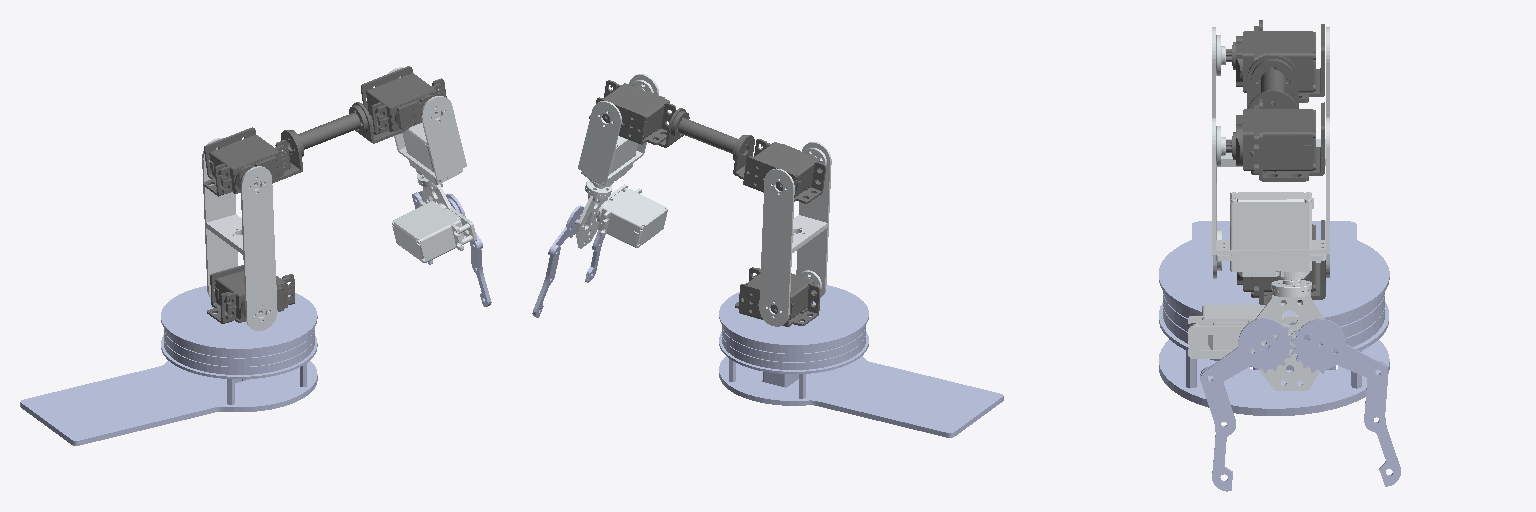
The robot description file, URDF, robot "six_servo":
<?xml version="1.0" encoding="utf-8" ?>
<!-- This URDF was automatically created by SolidWorks to URDF Exporter! Originally created by [author] ([email redacted]) 
     Commit Version: 1.6.0-1-g15f4949  Build Version: 1.6.7594.29634
     For more information, please see http://wiki.ros.org/sw_urdf_exporter -->
<robot name="six_servo">
    <link name="base_link">
        <inertial>
            <origin xyz="-0.018875 0.0012578 0.021854" rpy="0 0 0" />
            <mass value="0.19205" />
            <inertia ixx="0.00016092" ixy="2.2769E-06" ixz="-1.8938E-05" iyy="0.00040613" iyz="2.3218E-07" izz="0.0005467" />
        </inertial>
        <visual>
            <origin xyz="0 0 0" rpy="-1.5708 0 0" />
            <geometry>
                <mesh filename="package://six_servo/meshes/base_link.STL" scale="10 10 10"/>
            </geometry>
            <material name="">
                <color rgba="0.79216 0.81961 0.93333 1" />
            </material>
        </visual>
        <collision>
            <origin xyz="0 0 0" rpy="0 0 0" />
            <geometry>
                <mesh filename="package://six_servo/meshes/base_link.STL" scale="10 10 10"/>
            </geometry>
        </collision>
    </link>
    <link name="link1">
        <inertial>
            <origin xyz="0.019845 -0.018933 -0.01119" rpy="0 0 0" />
            <mass value="0.045014" />
            <inertia ixx="4.7182E-06" ixy="3.953E-08" ixz="1.6436E-09" iyy="9.8584E-06" iyz="-4.236E-07" izz="1.0906E-05" />
        </inertial>
        <visual>
            <origin xyz="0 0 0" rpy="0 0 0" />
            <geometry>
                <mesh filename="package://six_servo/meshes/link1.STL" scale="10 10 10"/>
            </geometry>
            <material name="">
                <color rgba="0.50196 0.50196 0.50196 1" />
            </material>
        </visual>
        <collision>
            <origin xyz="0 0 0" rpy="0 0 0" />
            <geometry>
                <mesh filename="package://six_servo/meshes/link1.STL" scale="10 10 10"/>
            </geometry>
        </collision>
    </link>
    <joint name="joint1" type="revolute">
        <!--0.0076655 -0.05 -0.014602-->
        <origin xyz="-0.076655 -0.14602 0.5" rpy="-3.14 -0.040154 0" />
        <parent link="base_link" />
        <child link="link1" />
        <axis xyz="0 0 1" />
        <limit lower="-1.5708" upper="1.5708" effort="100" velocity="1" />
    </joint>
    <link name="link2">
        <inertial>
            <origin xyz="-9.6446E-05 -0.051 0.011223" rpy="0 0 0" />
            <mass value="0.049995" />
            <inertia ixx="4.6603E-05" ixy="-3.0854E-08" ixz="-1.1117E-20" iyy="3.0288E-05" iyz="-5.5477E-21" izz="2.134E-05" />
        </inertial>
        <visual>
            <origin xyz="0 0 0" rpy="0 0 0" />
            <geometry>
                <mesh filename="package://six_servo/meshes/link2.STL" scale="10 10 10"/>
            </geometry>
            <material name="">
                <color rgba="0.89412 0.91373 0.92941 1" />
            </material>
        </visual>
        <collision>
            <origin xyz="0 0 0" rpy="0 0 0" />
            <geometry>
                <mesh filename="package://six_servo/meshes/link2.STL" scale="10 10 10"/>
            </geometry>
        </collision>
    </link>
    <joint name="joint2" type="revolute">
        <origin xyz="0.1 0 -0.13292" rpy="1.5708 0 0" />
        <parent link="link1" />
        <child link="link2" />
        <axis xyz="0 0 1" />
        <limit lower="-1.52" upper="1.52" effort="100" velocity="1" />
    </joint>
    <link name="link3">
        <inertial>
            <origin xyz="0.07528 -0.018025 0.002122" rpy="0 0 0" />
            <mass value="0.11189" />
            <inertia ixx="1.1218E-05" ixy="1.0566E-10" ixz="3.2873E-09" iyy="2.5125E-05" iyz="-8.4719E-07" izz="2.7114E-05" />
        </inertial>
        <visual>
            <origin xyz="0 0 0" rpy="0 0 0" />
            <geometry>
                <mesh filename="package://six_servo/meshes/link3.STL" scale="10 10 10"/>
            </geometry>
            <material name="">
                <color rgba="0.50196 0.50196 0.50196 1" />
            </material>
        </visual>
        <collision>
            <origin xyz="0 0 0" rpy="0 0 0" />
            <geometry>
                <mesh filename="package://six_servo/meshes/link3.STL" scale="10 10 10"/>
            </geometry>
        </collision>
    </link>
    <joint name="joint3" type="revolute">
        <origin xyz="-0.0019289 -1.02 0" rpy="-1.5708 0 -0.099914" />
        <parent link="link2" />
        <child link="link3" />
        <axis xyz="0 1 0" />
        <limit lower="-1.047" upper="2.093" effort="100" velocity="1" />
    </joint>
    <link name="link4">
        <inertial>
            <origin xyz="-0.012388 0.035123 1.8331E-05" rpy="0 0 0" />
            <mass value="0.051687" />
            <inertia ixx="1.0059E-05" ixy="3.877E-08" ixz="6.0397E-13" iyy="1.9542E-05" iyz="3.8857E-09" izz="2.5393E-05" />
        </inertial>
        <visual>
            <origin xyz="0 0 0" rpy="0 0 0" />
            <geometry>
                <mesh filename="package://six_servo/meshes/link4.STL" scale="10 10 10"/>
            </geometry>
            <material name="">
                <color rgba="0.89804 0.91765 0.92941 1" />
            </material>
        </visual>
        <collision>
            <origin xyz="0 0 0" rpy="0 0 0" />
            <geometry>
                <mesh filename="package://six_servo/meshes/link4.STL" scale="10 10 10"/>
            </geometry>
        </collision>
    </link>
    <joint name="joint4" type="revolute">
        <origin xyz="1.5057 0 0" rpy="1.6698 0 1.5708" />
        <parent link="link3" />
        <child link="link4" />
        <axis xyz="1 0 0" />
        <limit lower="-0.7854" upper="2.3546" effort="100" velocity="1" />
    </joint>
    <link name="link5">
        <inertial>
            <origin xyz="-0.016771 -0.019023 -0.026447" rpy="0 0 0" />
            <mass value="0.039432" />
            <inertia ixx="7.2715E-06" ixy="-7.6833E-08" ixz="3.0175E-10" iyy="2.3347E-06" iyz="8.7991E-09" izz="6.5466E-06" />
        </inertial>
        <visual>
            <origin xyz="0 0 0" rpy="0 0 0" />
            <geometry>
                <mesh filename="package://six_servo/meshes/link5.STL" scale="10 10 10"/>
            </geometry>
            <material name="">
                <color rgba="0.89412 0.91373 0.92941 1" />
            </material>
        </visual>
        <collision>
            <origin xyz="0 0 0" rpy="0 0 0" />
            <geometry>
                <mesh filename="package://six_servo/meshes/link5.STL" scale="10 10 10"/>
            </geometry>
        </collision>
    </link>
    <joint name="joint5" type="revolute">
        <origin xyz="-0.2325 0.66804 3.5745E-04" rpy="-1.5708 -1.566 3.1416" />
        <parent link="link4" />
        <child link="link5" />
        <axis xyz="0 0 1" />
        <limit lower="-1.5708" upper="1.5708" effort="100" velocity="1" />
    </joint>
    <link name="link6_1">
        <inertial>
            <origin xyz="0.00011182 -0.0027632 0.0047626" rpy="0 0 0" />
            <mass value="0.0034196" />
            <inertia ixx="2.6556E-07" ixy="-4.9134E-09" ixz="9.2644E-23" iyy="9.8312E-08" iyz="3.4328E-22" izz="3.5886E-07" />
        </inertial>
        <visual>
            <origin xyz="0 0 0" rpy="0 0 0" />
            <geometry>
                <mesh filename="package://six_servo/meshes/link6_1.STL" scale="10 10 10"/>
            </geometry>
            <material name="">
                <color rgba="0.79216 0.81961 0.93333 1" />
            </material>
        </visual>
        <collision>
            <origin xyz="0 0 0" rpy="0 0 0" />
            <geometry>
                <mesh filename="package://six_servo/meshes/link6_1.STL" scale="10 10 10"/>
            </geometry>
        </collision>
    </link>
    <joint name="joint6_1" type="continuous">
        <origin xyz="0 -0.135 -0.29571" rpy="1.5708 0.98921 1.5708" />
        <parent link="link5" />
        <child link="link6_1" />
        <axis xyz="0 0 1" />
        <limit lower="0" upper="0" effort="100" velocity="1" />
    </joint>
    <link name="link7_1">
        <inertial>
            <origin xyz="-0.0062954 0.022738 0.014232" rpy="0 0 0" />
            <mass value="0.0014839" />
            <inertia ixx="4.3406E-07" ixy="7.4037E-08" ixz="7.9409E-23" iyy="2.9089E-08" iyz="-4.0739E-22" izz="4.6093E-07" />
        </inertial>
        <visual>
            <origin xyz="0 0 0" rpy="0 0 0" />
            <geometry>
                <mesh filename="package://six_servo/meshes/link7_1.STL" scale="10 10 10"/>
            </geometry>
            <material name="">
                <color rgba="0.79216 0.81961 0.93333 1" />
            </material>
        </visual>
        <collision>
            <origin xyz="0 0 0" rpy="0 0 0" />
            <geometry>
                <mesh filename="package://six_servo/meshes/link7_1.STL" scale="10 10 10"/>
            </geometry>
        </collision>
    </link>
    <joint name="joint7_1" type="continuous">
        <origin xyz="-0.0019564 -0.31049 -0.10482" rpy="0 0 -2.2378" scale="10 10 10"/>
        <parent link="link6_1" />
        <child link="link7_1" />
        <axis xyz="0 0 1" />
        <limit lower="0" upper="0" effort="100" velocity="1" />
    </joint>
    <link name="link6_2">
        <inertial>
            <origin xyz="0.00026689 -0.0065013 -0.011645" rpy="0 0 0" />
            <mass value="0.0014534" />
            <inertia ixx="2.1584E-07" ixy="-4.8715E-09" ixz="2.9779E-23" iyy="4.7208E-08" iyz="2.068E-23" izz="2.62E-07" />
        </inertial>
        <visual>
            <origin xyz="0 0 0" rpy="0 0 0" />
            <geometry>
                <mesh filename="package://six_servo/meshes/link6_2.STL" scale="10 10 10"/>
            </geometry>
            <material name="">
                <color rgba="0.79216 0.81961 0.93333 1" />
            </material>
        </visual>
        <collision>
            <origin xyz="0 0 0" rpy="0 0 0" />
            <geometry>
                <mesh filename="package://six_servo/meshes/link6_2.STL" scale="10 10 10"/>
            </geometry>
        </collision>
    </link>
    <joint name="joint6_2" type="continuous">
        <origin xyz="-0.054227 0.14 -0.29946" rpy="1.5708 1.1052 -1.5708" />
        <parent link="link5" />
        <child link="link6_2" />
        <axis xyz="0 0 1" />
        <limit lower="0" upper="0" effort="100" velocity="1" />
    </joint>
    <link name="link7_2">
        <inertial>
            <origin xyz="-0.0062954 0.022738 -0.01465" rpy="0 0 0" />
            <mass value="0.0014839" />
            <inertia ixx="4.3406E-07" ixy="7.4037E-08" ixz="-2.068E-23" iyy="2.9089E-08" iyz="-3.3294E-23" izz="4.6093E-07" />
        </inertial>
        <visual>
            <origin xyz="0 0 0" rpy="0 0 0" />
            <geometry>
                <mesh filename="package://six_servo/meshes/link7_2.STL" scale="10 10 10"/>
            </geometry>
            <material name="">
                <color rgba="0.79216 0.81961 0.93333 1" />
            </material>
        </visual>
        <collision>
            <origin xyz="0 0 0" rpy="0 0 0" />
            <geometry>
                <mesh filename="package://six_servo/meshes/link7_2.STL" scale="10 10 10"/>
            </geometry>
        </collision>
    </link>
    <joint name="joint7_2" type="continuous">
        <origin xyz="-0.0019564 -0.31049 0.05427" rpy="0 0 -2.3584" scale="10 10 10"/>
        <parent link="link6_2" />
        <child link="link7_2" />
        <axis xyz="0 0 1" />
        <limit lower="0" upper="0" effort="100" velocity="1" />
    </joint>
    <transmission name="trans_joint1">
        <type>transmission_interface/SimpleTransmission</type>
        <joint name="joint1">
            <hardwareInterface>hardware_interface/EffortJointInterface</hardwareInterface>
        </joint>
        <actuator name="joint1_motor">
            <hardwareInterface>hardware_interface/EffortJointInterface</hardwareInterface>
            <mechanicalReduction>1</mechanicalReduction>
        </actuator>
    </transmission>
    <transmission name="trans_joint2">
        <type>transmission_interface/SimpleTransmission</type>
        <joint name="joint2">
            <hardwareInterface>hardware_interface/EffortJointInterface</hardwareInterface>
        </joint>
        <actuator name="joint2_motor">
            <hardwareInterface>hardware_interface/EffortJointInterface</hardwareInterface>
            <mechanicalReduction>1</mechanicalReduction>
        </actuator>
    </transmission>
    <transmission name="trans_joint3">
        <type>transmission_interface/SimpleTransmission</type>
        <joint name="joint3">
            <hardwareInterface>hardware_interface/EffortJointInterface</hardwareInterface>
        </joint>
        <actuator name="joint3_motor">
            <hardwareInterface>hardware_interface/EffortJointInterface</hardwareInterface>
            <mechanicalReduction>1</mechanicalReduction>
        </actuator>
    </transmission>
    <transmission name="trans_joint4">
        <type>transmission_interface/SimpleTransmission</type>
        <joint name="joint4">
            <hardwareInterface>hardware_interface/EffortJointInterface</hardwareInterface>
        </joint>
        <actuator name="joint4_motor">
            <hardwareInterface>hardware_interface/EffortJointInterface</hardwareInterface>
            <mechanicalReduction>1</mechanicalReduction>
        </actuator>
    </transmission>
    <transmission name="trans_joint5">
        <type>transmission_interface/SimpleTransmission</type>
        <joint name="joint5">
            <hardwareInterface>hardware_interface/EffortJointInterface</hardwareInterface>
        </joint>
        <actuator name="joint5_motor">
            <hardwareInterface>hardware_interface/EffortJointInterface</hardwareInterface>
            <mechanicalReduction>1</mechanicalReduction>
        </actuator>
    </transmission>
    <transmission name="trans_joint6_1">
        <type>transmission_interface/SimpleTransmission</type>
        <joint name="joint6_1">
            <hardwareInterface>hardware_interface/EffortJointInterface</hardwareInterface>
        </joint>
        <actuator name="joint6_1_motor">
            <hardwareInterface>hardware_interface/EffortJointInterface</hardwareInterface>
            <mechanicalReduction>1</mechanicalReduction>
        </actuator>
    </transmission>
    <transmission name="trans_joint7_1">
        <type>transmission_interface/SimpleTransmission</type>
        <joint name="joint7_1">
            <hardwareInterface>hardware_interface/EffortJointInterface</hardwareInterface>
        </joint>
        <actuator name="joint7_1_motor">
            <hardwareInterface>hardware_interface/EffortJointInterface</hardwareInterface>
            <mechanicalReduction>1</mechanicalReduction>
        </actuator>
    </transmission>
    <transmission name="trans_joint6_2">
        <type>transmission_interface/SimpleTransmission</type>
        <joint name="joint6_2">
            <hardwareInterface>hardware_interface/EffortJointInterface</hardwareInterface>
        </joint>
        <actuator name="joint6_2_motor">
            <hardwareInterface>hardware_interface/EffortJointInterface</hardwareInterface>
            <mechanicalReduction>1</mechanicalReduction>
        </actuator>
    </transmission>
    <transmission name="trans_joint7_2">
        <type>transmission_interface/SimpleTransmission</type>
        <joint name="joint7_2">
            <hardwareInterface>hardware_interface/EffortJointInterface</hardwareInterface>
        </joint>
        <actuator name="joint7_2_motor">
            <hardwareInterface>hardware_interface/EffortJointInterface</hardwareInterface>
            <mechanicalReduction>1</mechanicalReduction>
        </actuator>
    </transmission>
    <gazebo>
        <plugin name="gazebo_ros_control">
            <robotNamespace>/</robotNamespace>
        </plugin>
    </gazebo>
</robot>

--- Facts derived from the render (not from the file) ---
The picture shows the robot from 3 angles, left to right: view 1: azimuth 30°, elevation 25°; view 2: azimuth 150°, elevation 25°; view 3: azimuth 270°, elevation 25°; orthographic projection.
Model six_servo with 10 links and 9 joints (5 revolute, 4 continuous), rooted at base_link, posed all joints at 0.
Links seen in each view (by area): view 1: base_link, link3, link2, link4, link5, link1, link7_1; view 2: base_link, link3, link2, link5, link4, link1, link7_2; view 3: base_link, link3, link4, link5, link6_1, link6_2, link7_1, link7_2, link2, link1.
Link boxes in pixels (bbox=[...]): base_link: bbox=[20, 286, 317, 445]; link3: bbox=[203, 66, 446, 196]; link2: bbox=[202, 138, 277, 330]; link4: bbox=[388, 67, 466, 184]; link5: bbox=[392, 174, 476, 262]; link1: bbox=[207, 265, 294, 323]; link7_1: bbox=[470, 239, 491, 306]; base_link: bbox=[719, 285, 1003, 437]; link3: bbox=[589, 80, 825, 203]; link2: bbox=[759, 142, 831, 326]; link5: bbox=[576, 180, 667, 248]; link4: bbox=[578, 74, 658, 186]; link1: bbox=[735, 267, 819, 326]; link7_2: bbox=[532, 245, 560, 317]; base_link: bbox=[1159, 221, 1389, 415]; link3: bbox=[1226, 20, 1324, 181]; link4: bbox=[1212, 117, 1329, 280]; link5: bbox=[1188, 279, 1332, 390]; link6_1: bbox=[1201, 318, 1293, 387]; link6_2: bbox=[1291, 319, 1387, 381]; link7_1: bbox=[1200, 367, 1235, 491]; link7_2: bbox=[1364, 361, 1400, 486]; link2: bbox=[1212, 27, 1329, 278]; link1: bbox=[1237, 220, 1325, 304].
Size in the robot's own frame: 3.51 by 1.18 by 2.01 metres.
Meshes: 10 distinct files referenced, 10 mesh visuals loaded (10 binary STL).
